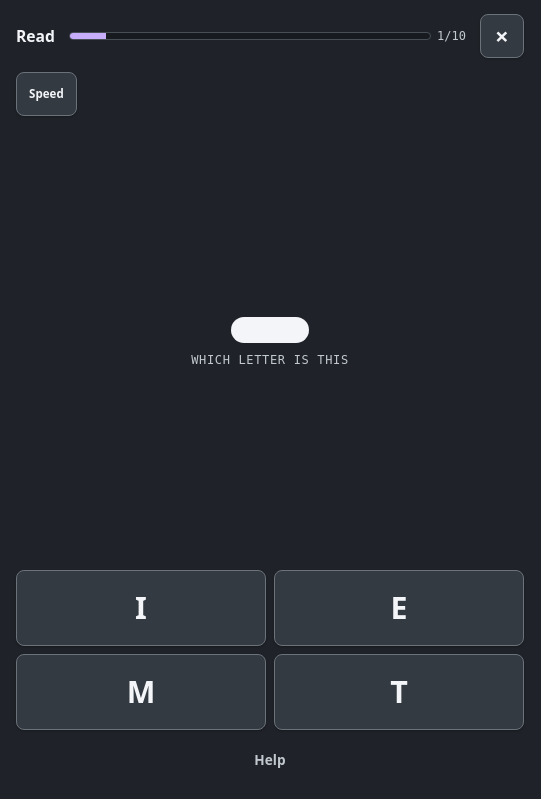
Test: LetterPracticeRun four-choice recognition › holds a read miss on one verdict until Continue, with a short tap-through guard
The width and height of the screenshot is (541, 799).
Step 1. Click the button "I" → (141, 608), box 16,570 -> 266,646
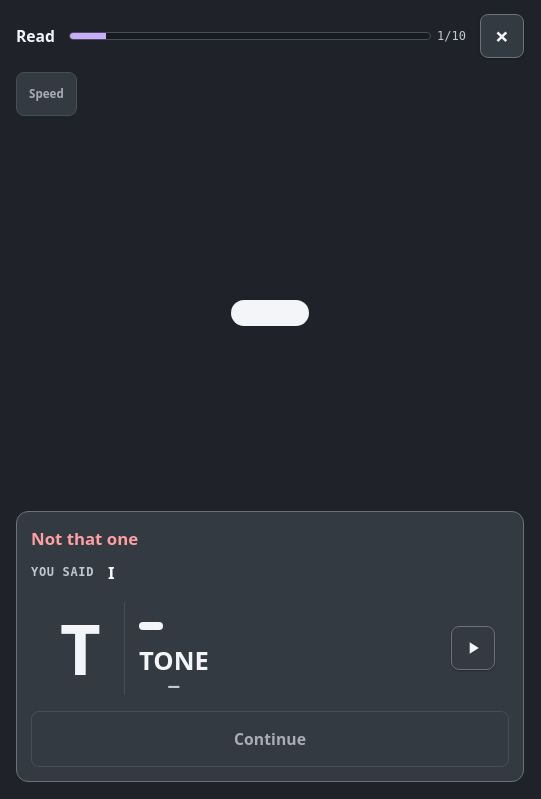
Check: the text with class "session-miss-said-value" reads "I", box 108,560 -> 115,584
Check: the message shows "Not that one", box 31,526 -> 138,550
Check: the button "Continue" is disabled
Step 2. Click the button "Continue" → (270, 739), box 31,711 -> 509,767
Wait 30400 ms
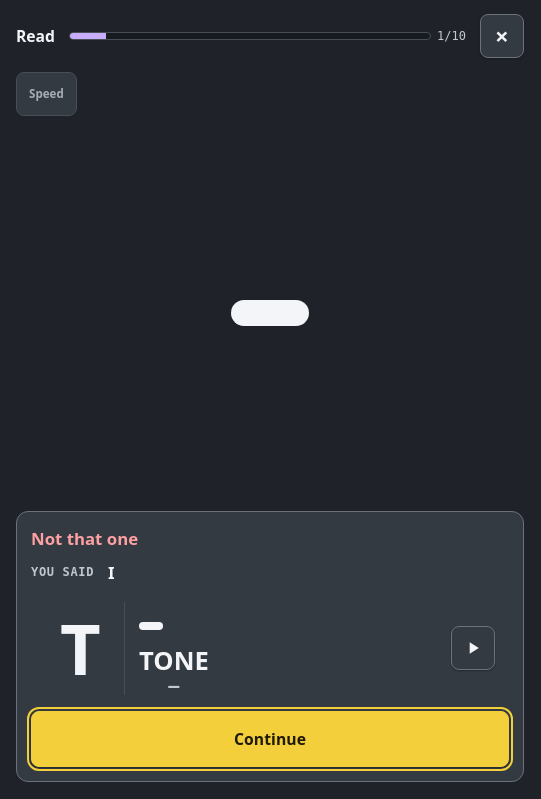
Check: the progress indicator named "1 of 10" is shown, box 69,32 -> 431,40
Check: the button "Continue" is shown
Check: the button "Continue" is enabled
Step 3. Click the button "Continue" → (270, 739), box 31,711 -> 509,767
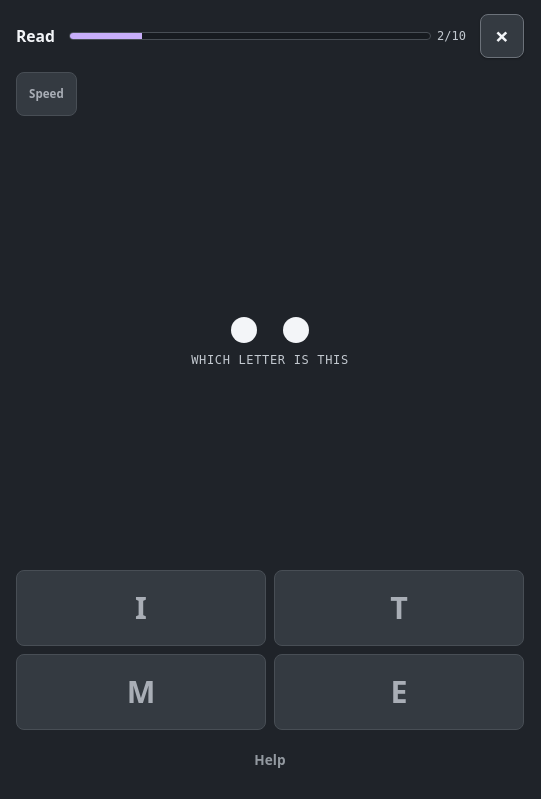
Check: the progress indicator named "2 of 10" is shown, box 69,32 -> 431,40
